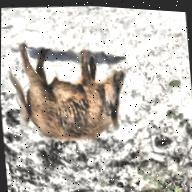boar: (5, 33, 131, 152)
